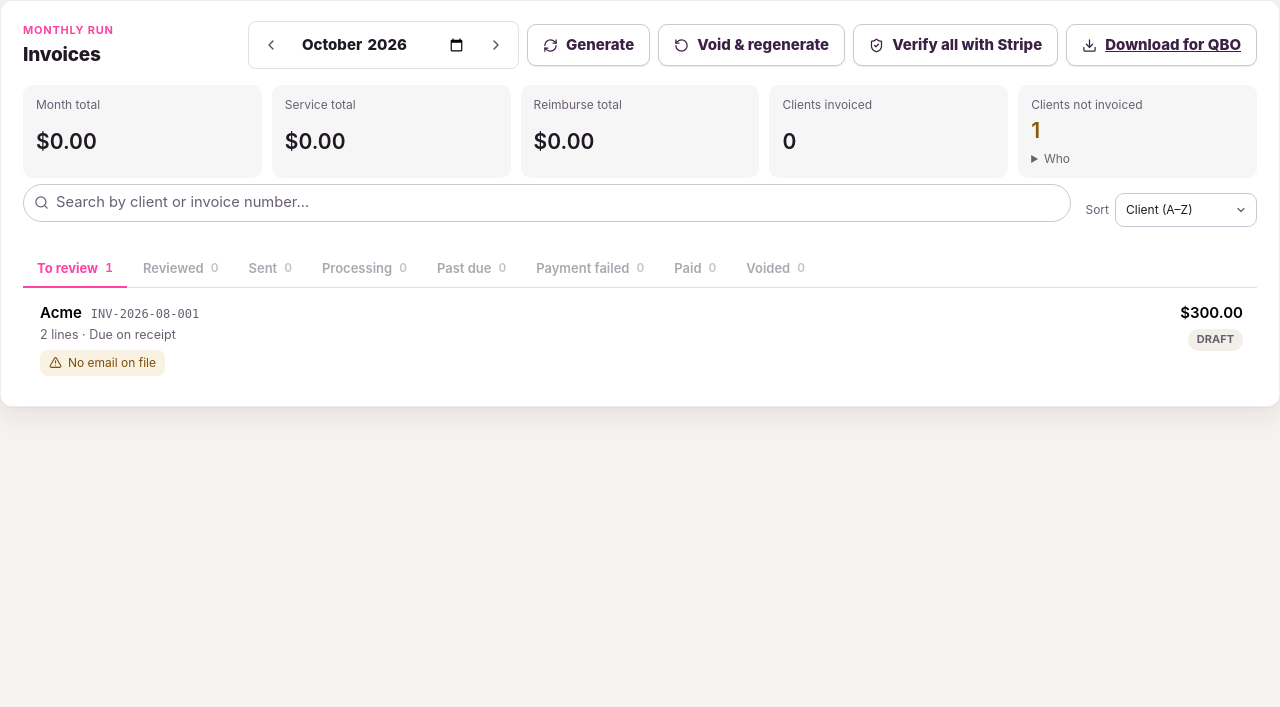
Test: InvoiceScopePanel — staging › says on the row that nothing has happened yet
Click the text "INV-2026-08-001": [145, 315] box left=91, top=306, right=199, bottom=324
(page scrolled)
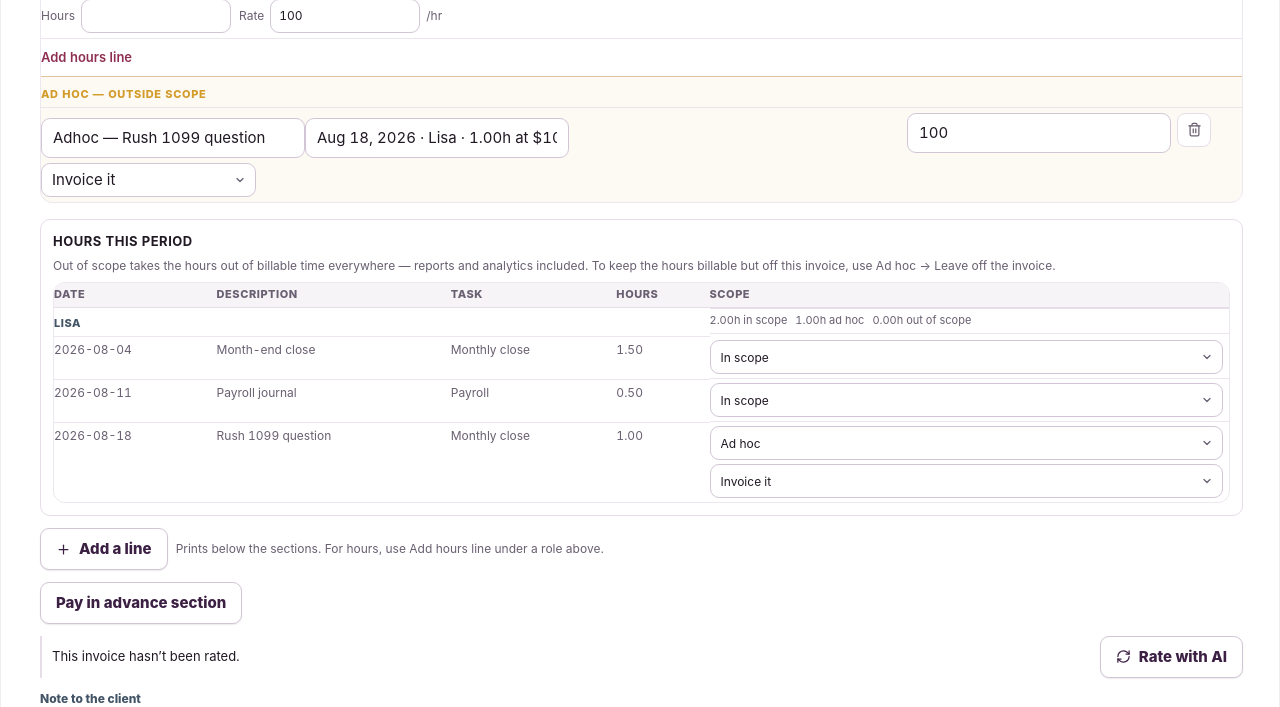
Check: the text "Will apply on save" is not shown
Select "Ad hoc" in the dropdown named "Scope for Payroll journal on 2026-08-11": [966, 400] box left=710, top=383, right=1223, bottom=417
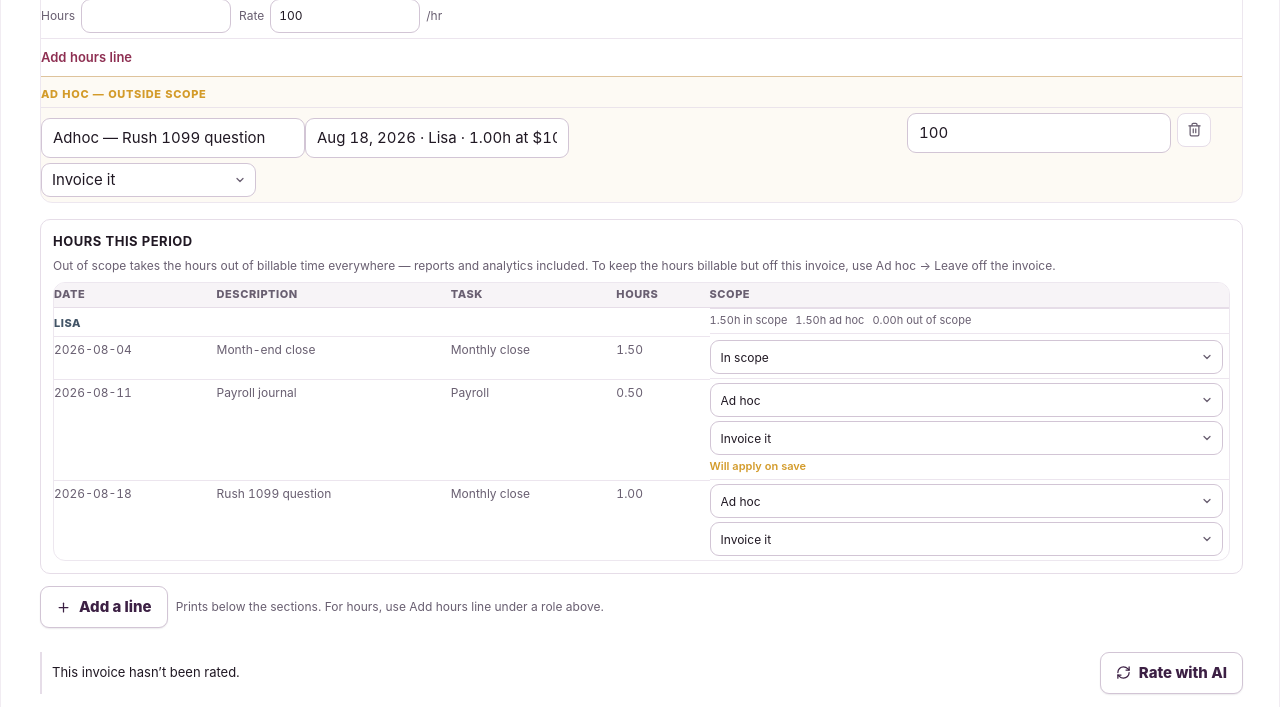
Check: the text "Will apply on save" is shown, box left=710, top=459, right=806, bottom=473
